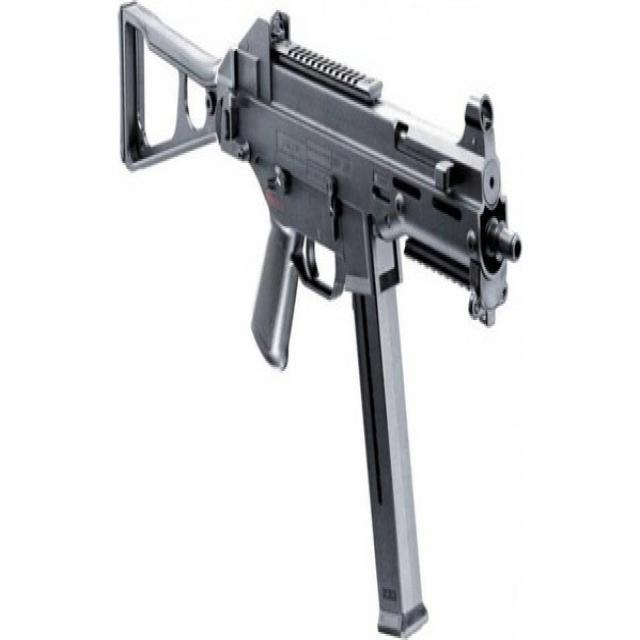SMG: (120, 6, 521, 640)
